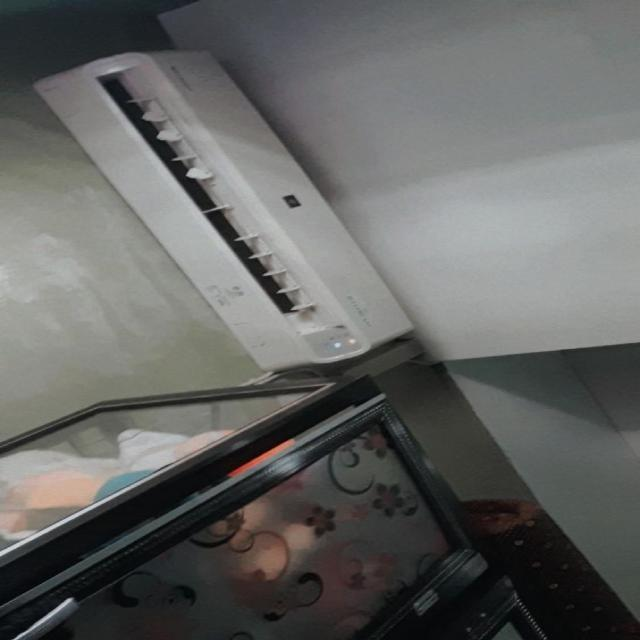AC: (33, 48, 415, 368)
